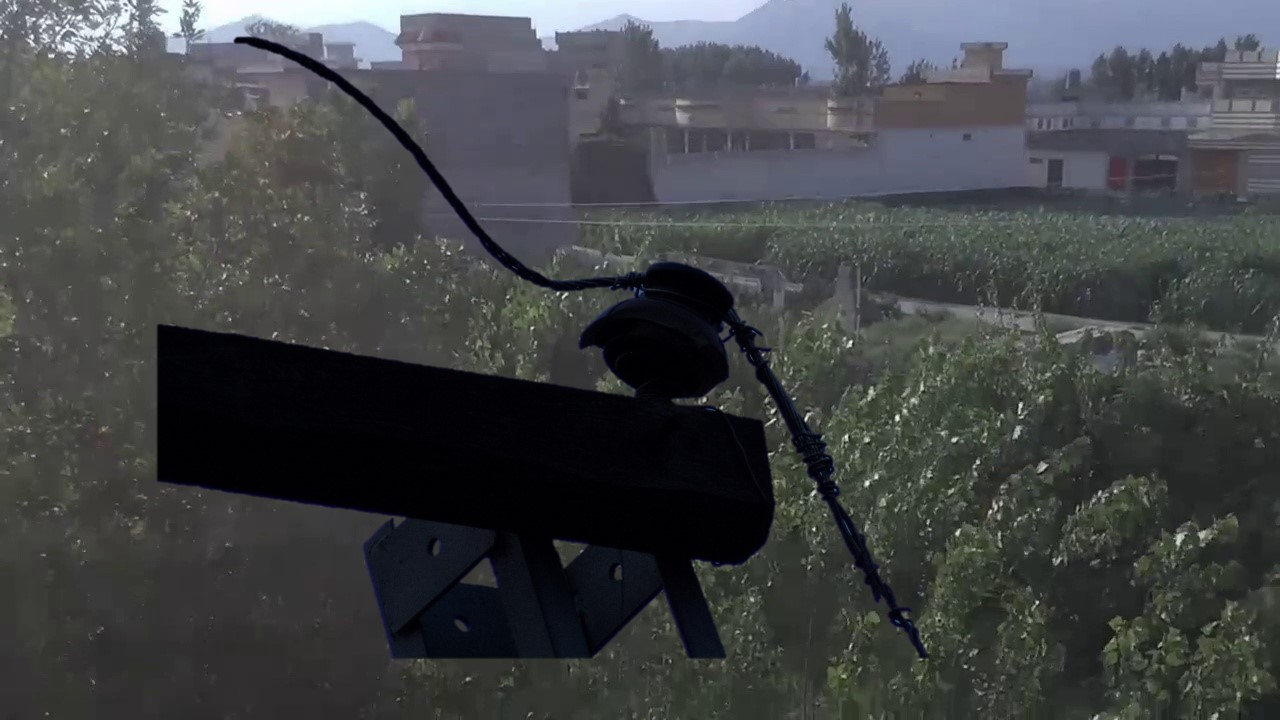defect_pin: (577, 257, 743, 404)
